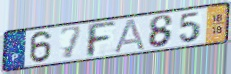5: (178, 10, 203, 44)
6: (28, 30, 54, 65)
7: (59, 24, 84, 61)
8: (147, 14, 175, 49)
A: (112, 17, 147, 54)
F: (85, 21, 117, 59)
